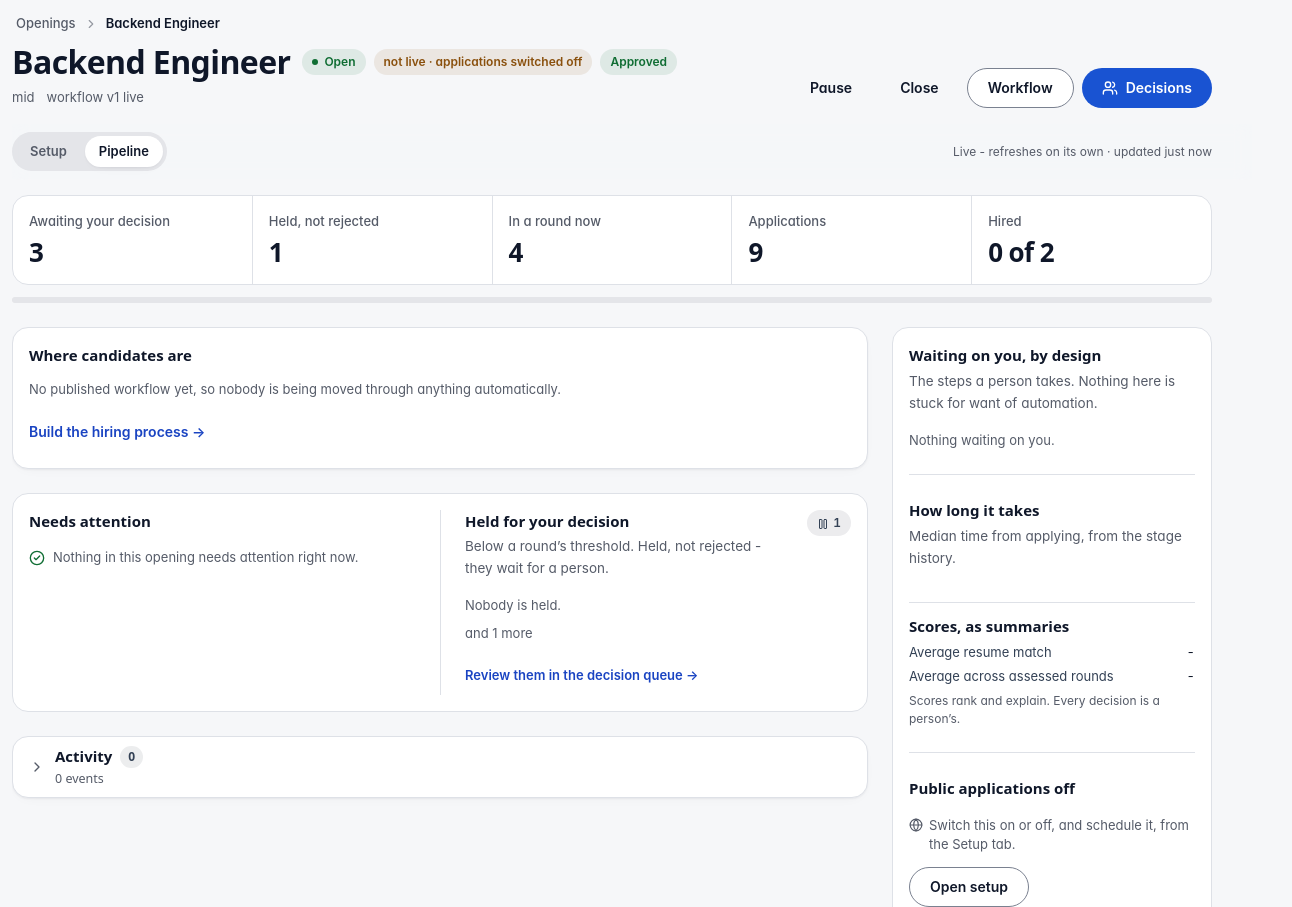
it: closing asks first (HR-L16) › sends nothing until the close is confirmed, and Cancel backs out
The width and height of the screenshot is (1292, 907).
Click the button "Close": click(919, 88) [880,68,959,108]
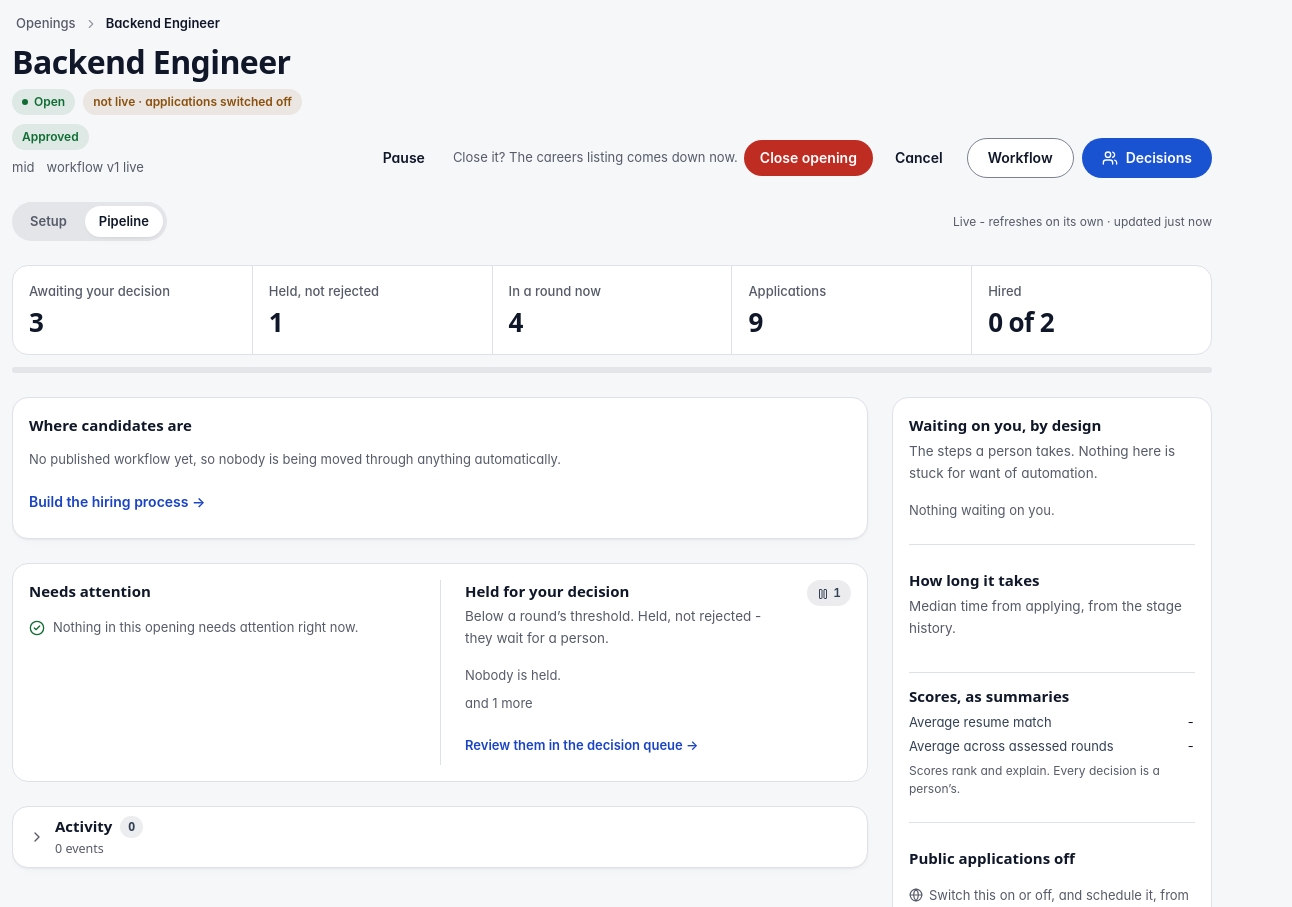
Click the button "Cancel": click(919, 158) [879,140,959,176]
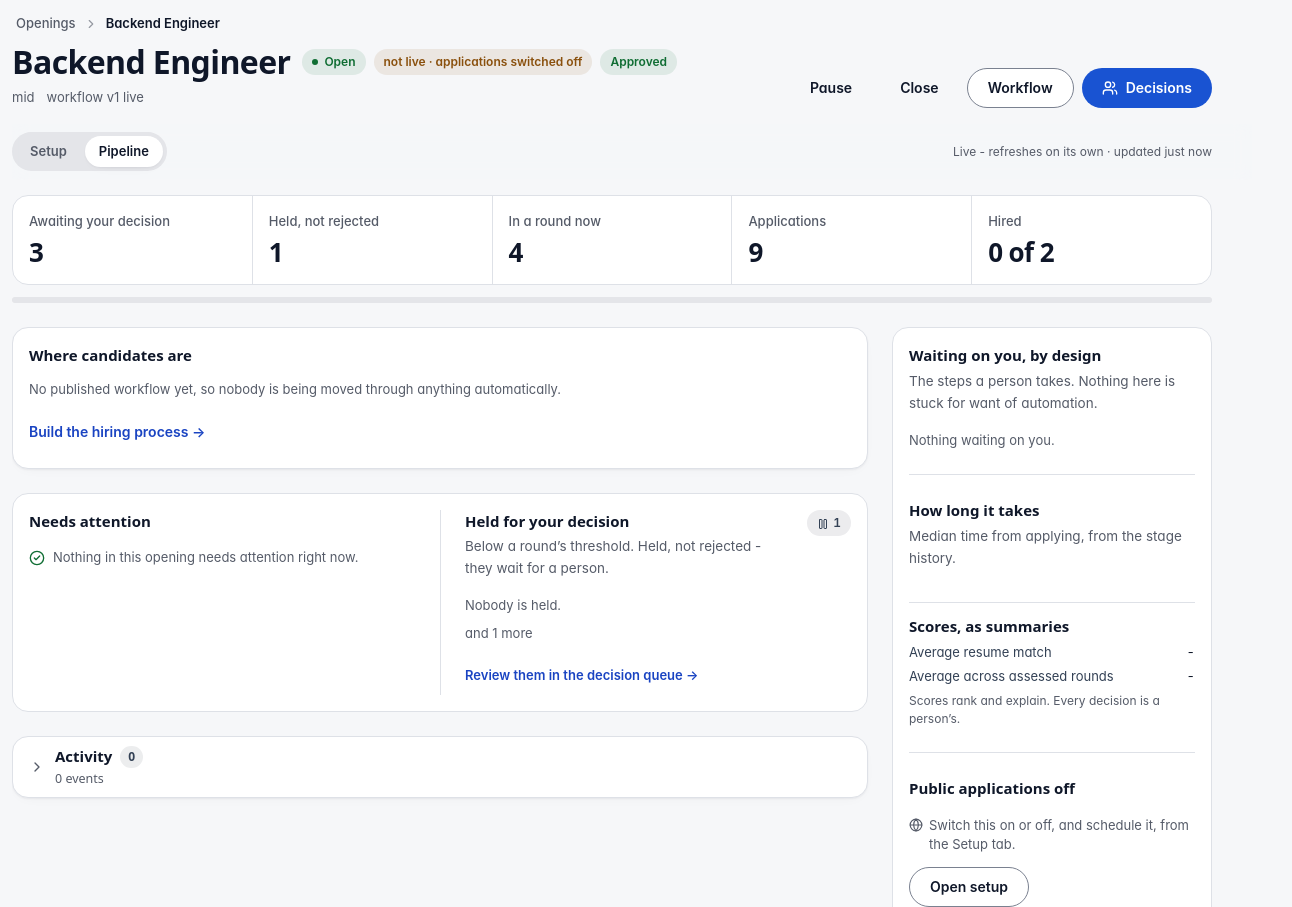
Check: the button "Close opening" is gone
